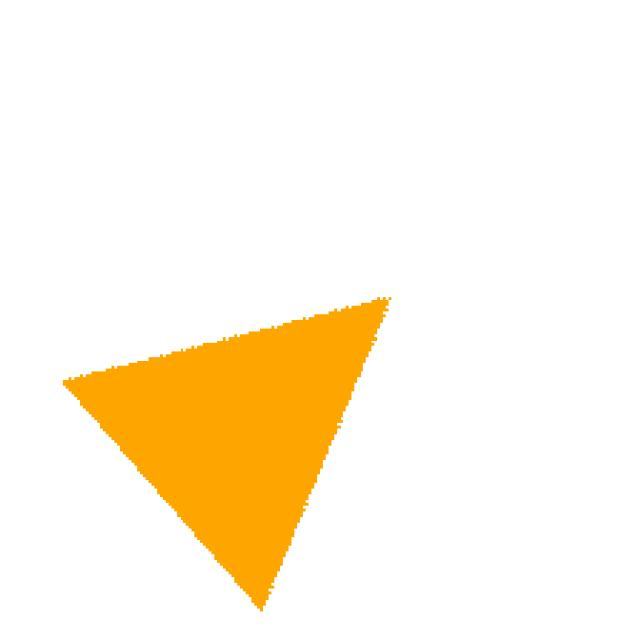Triangle: (41, 271, 493, 640)
